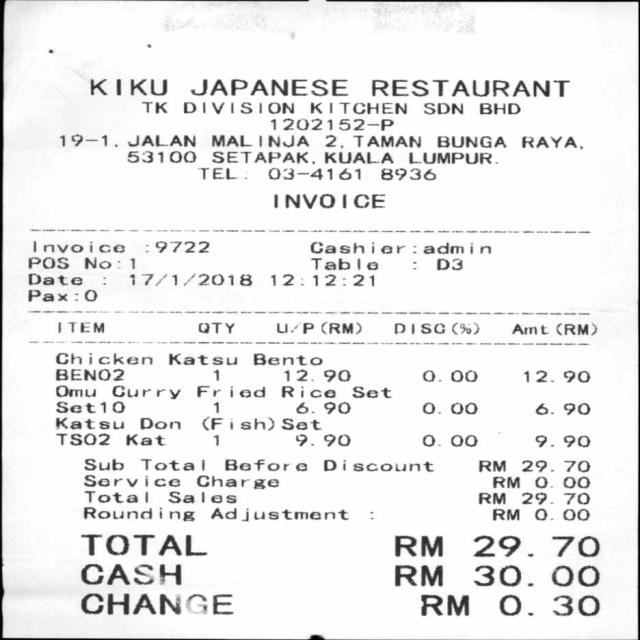text: (371, 79, 568, 96), (80, 593, 231, 614), (80, 534, 205, 555), (190, 79, 346, 95), (80, 563, 180, 584), (210, 507, 348, 520), (272, 193, 383, 208), (82, 506, 193, 520), (269, 118, 392, 130), (129, 273, 251, 285), (182, 102, 293, 114), (472, 534, 532, 556), (472, 564, 532, 586), (90, 78, 166, 95), (309, 241, 406, 254), (212, 151, 314, 163), (270, 274, 372, 286), (309, 102, 406, 114), (82, 474, 179, 486), (211, 134, 307, 146), (195, 474, 277, 488), (267, 167, 359, 179), (32, 240, 122, 252), (323, 460, 431, 470), (224, 458, 306, 471), (55, 352, 151, 363), (394, 564, 441, 586), (275, 321, 360, 333), (419, 594, 467, 615), (394, 322, 477, 334), (202, 416, 273, 430), (394, 535, 441, 556), (409, 151, 491, 163), (554, 564, 598, 586), (552, 594, 598, 615), (111, 384, 178, 398), (554, 535, 598, 556), (252, 352, 321, 365), (27, 288, 95, 301), (521, 459, 589, 472), (522, 369, 588, 382), (422, 242, 492, 254), (54, 400, 123, 412), (168, 352, 236, 364), (353, 134, 420, 146), (309, 257, 376, 269), (55, 368, 122, 380), (282, 369, 349, 381), (196, 384, 263, 396), (167, 490, 234, 502), (436, 136, 504, 147), (132, 134, 194, 146), (59, 133, 116, 146), (127, 151, 194, 162), (55, 417, 122, 428), (498, 594, 532, 615), (140, 459, 203, 470), (84, 491, 146, 502), (55, 432, 107, 445), (380, 167, 435, 179), (533, 434, 588, 446), (327, 152, 392, 162), (295, 401, 349, 413), (535, 402, 589, 414), (295, 434, 349, 446), (521, 136, 575, 147), (154, 241, 208, 252), (26, 273, 80, 284), (280, 386, 334, 397), (54, 384, 94, 397), (422, 102, 462, 114), (479, 102, 519, 114), (83, 458, 122, 470), (27, 257, 68, 268), (555, 323, 596, 334), (57, 322, 102, 332), (140, 417, 179, 428), (125, 434, 164, 445), (351, 386, 389, 397), (280, 418, 318, 429), (510, 323, 546, 334), (198, 168, 237, 178), (520, 492, 551, 504), (449, 369, 477, 382), (449, 434, 477, 447), (198, 322, 232, 332), (83, 256, 111, 268), (451, 402, 478, 414), (491, 508, 518, 520), (435, 257, 461, 269), (563, 492, 588, 504), (563, 508, 588, 520), (478, 460, 505, 471), (491, 476, 518, 487), (141, 101, 165, 113), (477, 492, 503, 503), (563, 476, 588, 487), (324, 134, 342, 147), (421, 402, 439, 414), (422, 433, 438, 446), (421, 369, 436, 382), (535, 508, 551, 520), (535, 476, 551, 487), (127, 257, 136, 269), (212, 369, 219, 382), (212, 401, 218, 413), (212, 434, 218, 446)
